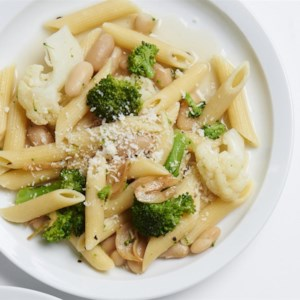plain spaghetti: (115, 24, 245, 242)
